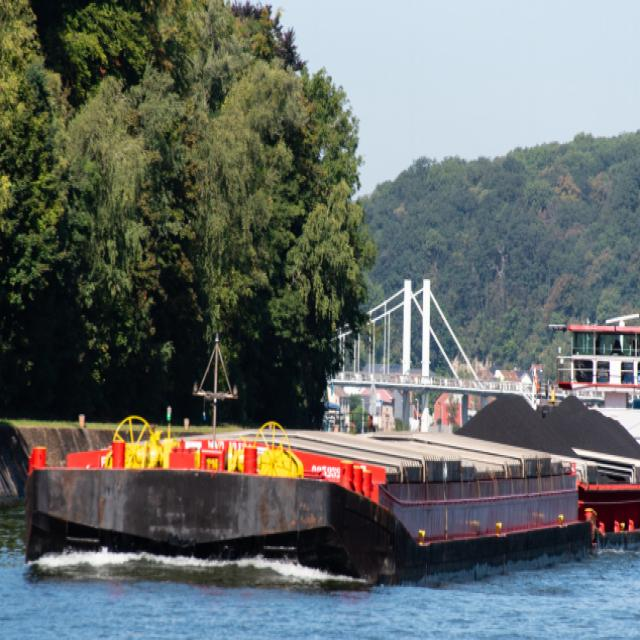tugboat: (538, 309, 640, 535)
